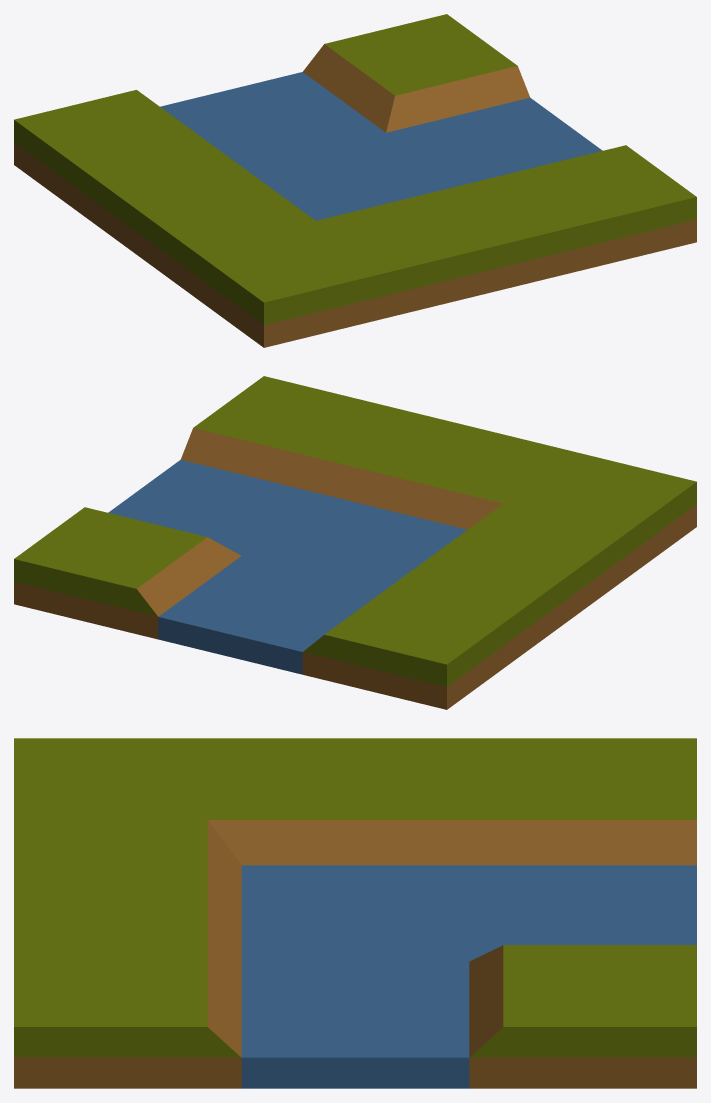
Rendered from ForestRiverCurve.fbx.
3 views of the same model, one above another, from view 1: azimuth 30°, elevation 25°; view 2: azimuth 150°, elevation 25°; view 3: azimuth 270°, elevation 25° (orthographic). The views are drawn at different scales.
Parts seen in each view (by area): view 1: ForestRiverCurve; view 2: ForestRiverCurve; view 3: ForestRiverCurve.
Boxes of the visible parts, x1,y1,x2,y2 form: ForestRiverCurve: (14,14,696,347); ForestRiverCurve: (14,376,696,709); ForestRiverCurve: (14,738,696,1088).
Bounding box in the file's own units: 100 × 10 × 100.
